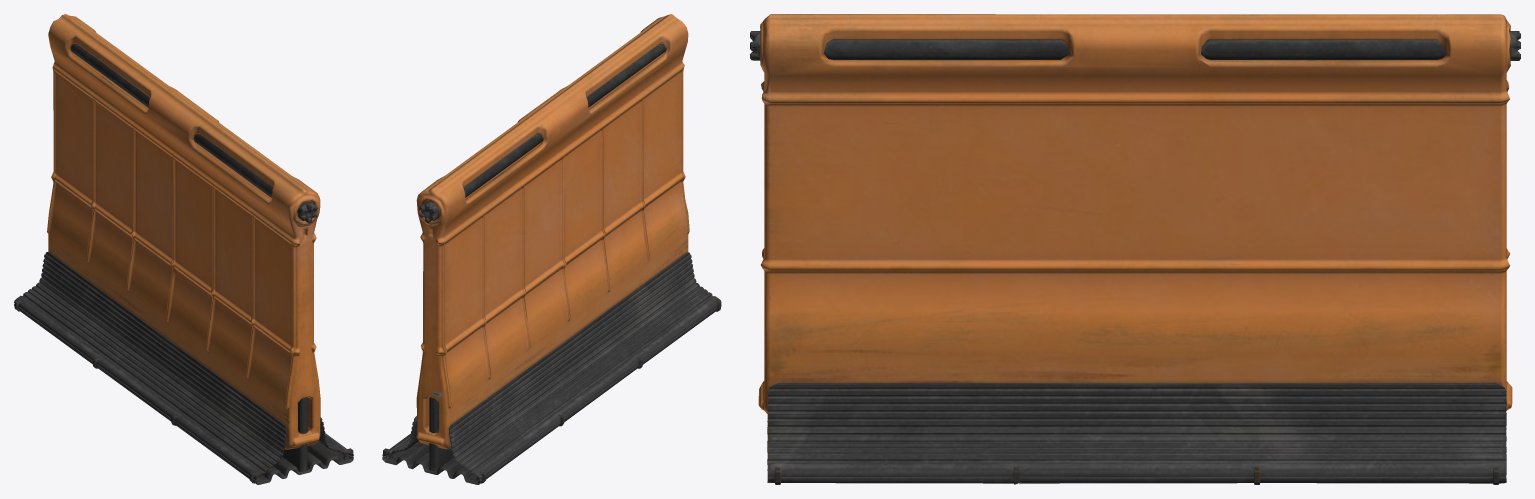
The model's file is barricade.glb.
3 views of the same model, side by side, from view 1: azimuth 30°, elevation 25°; view 2: azimuth 150°, elevation 25°; view 3: azimuth 270°, elevation 25° (orthographic). The views are drawn at different scales.
Visible parts, largest first — view 1: barricade; view 2: barricade; view 3: barricade.
Part boxes in pixels (bbox=[...]): barricade: bbox=[14, 14, 353, 484]; barricade: bbox=[382, 14, 721, 484]; barricade: bbox=[750, 14, 1520, 484].
Bounding box in the file's own units: 0.312 × 0.83 × 1.34.
1 material, 1 textured.
